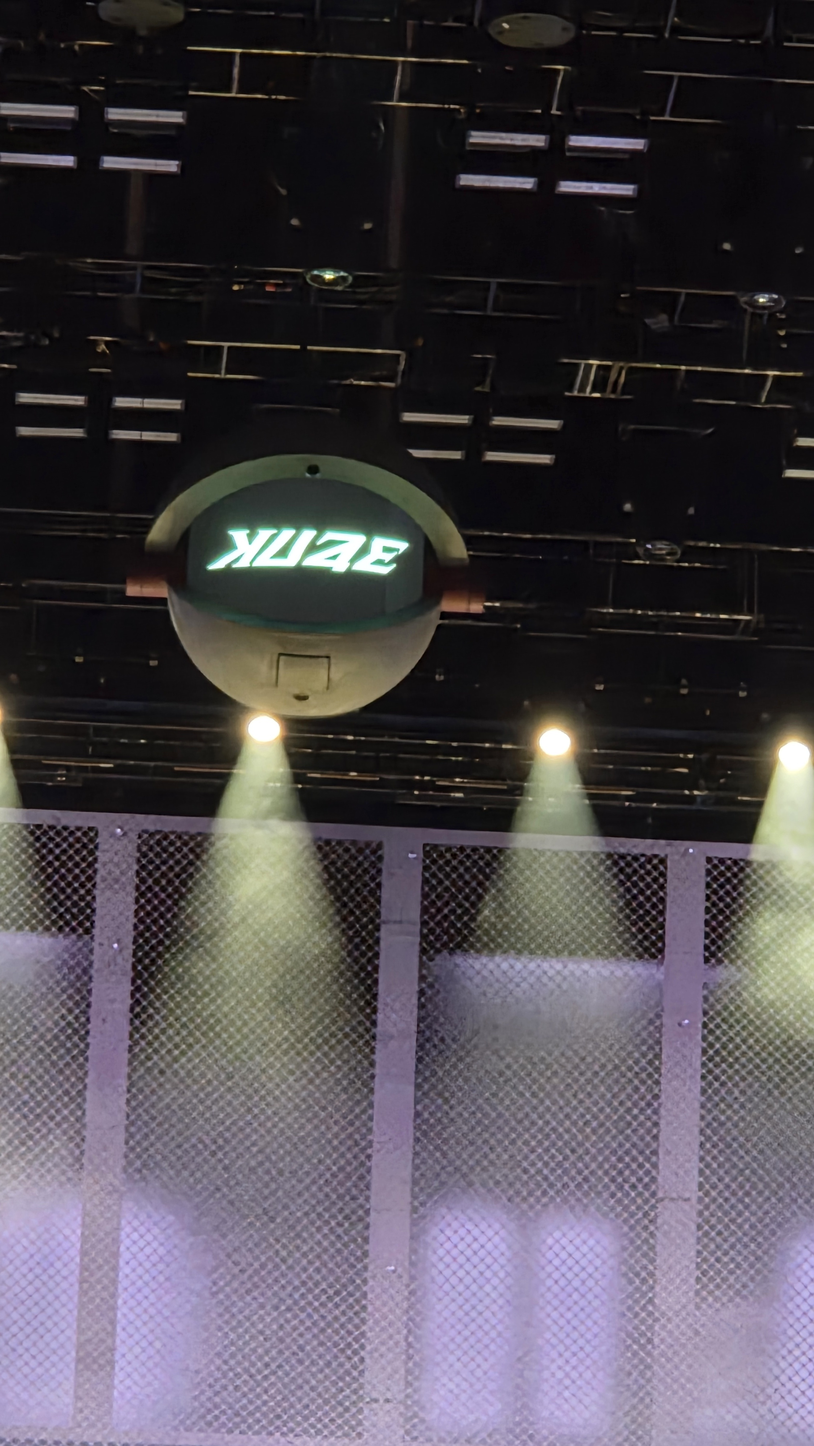A: (298, 528, 370, 576)
M: (204, 526, 281, 573)
O: (249, 526, 320, 570)
T: (348, 534, 412, 578)
